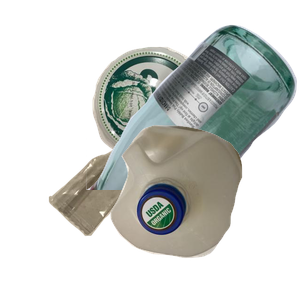glass: (86, 22, 300, 202)
metal: (90, 44, 289, 195)
plastic: (108, 123, 300, 300)
trash: (46, 144, 188, 300)
